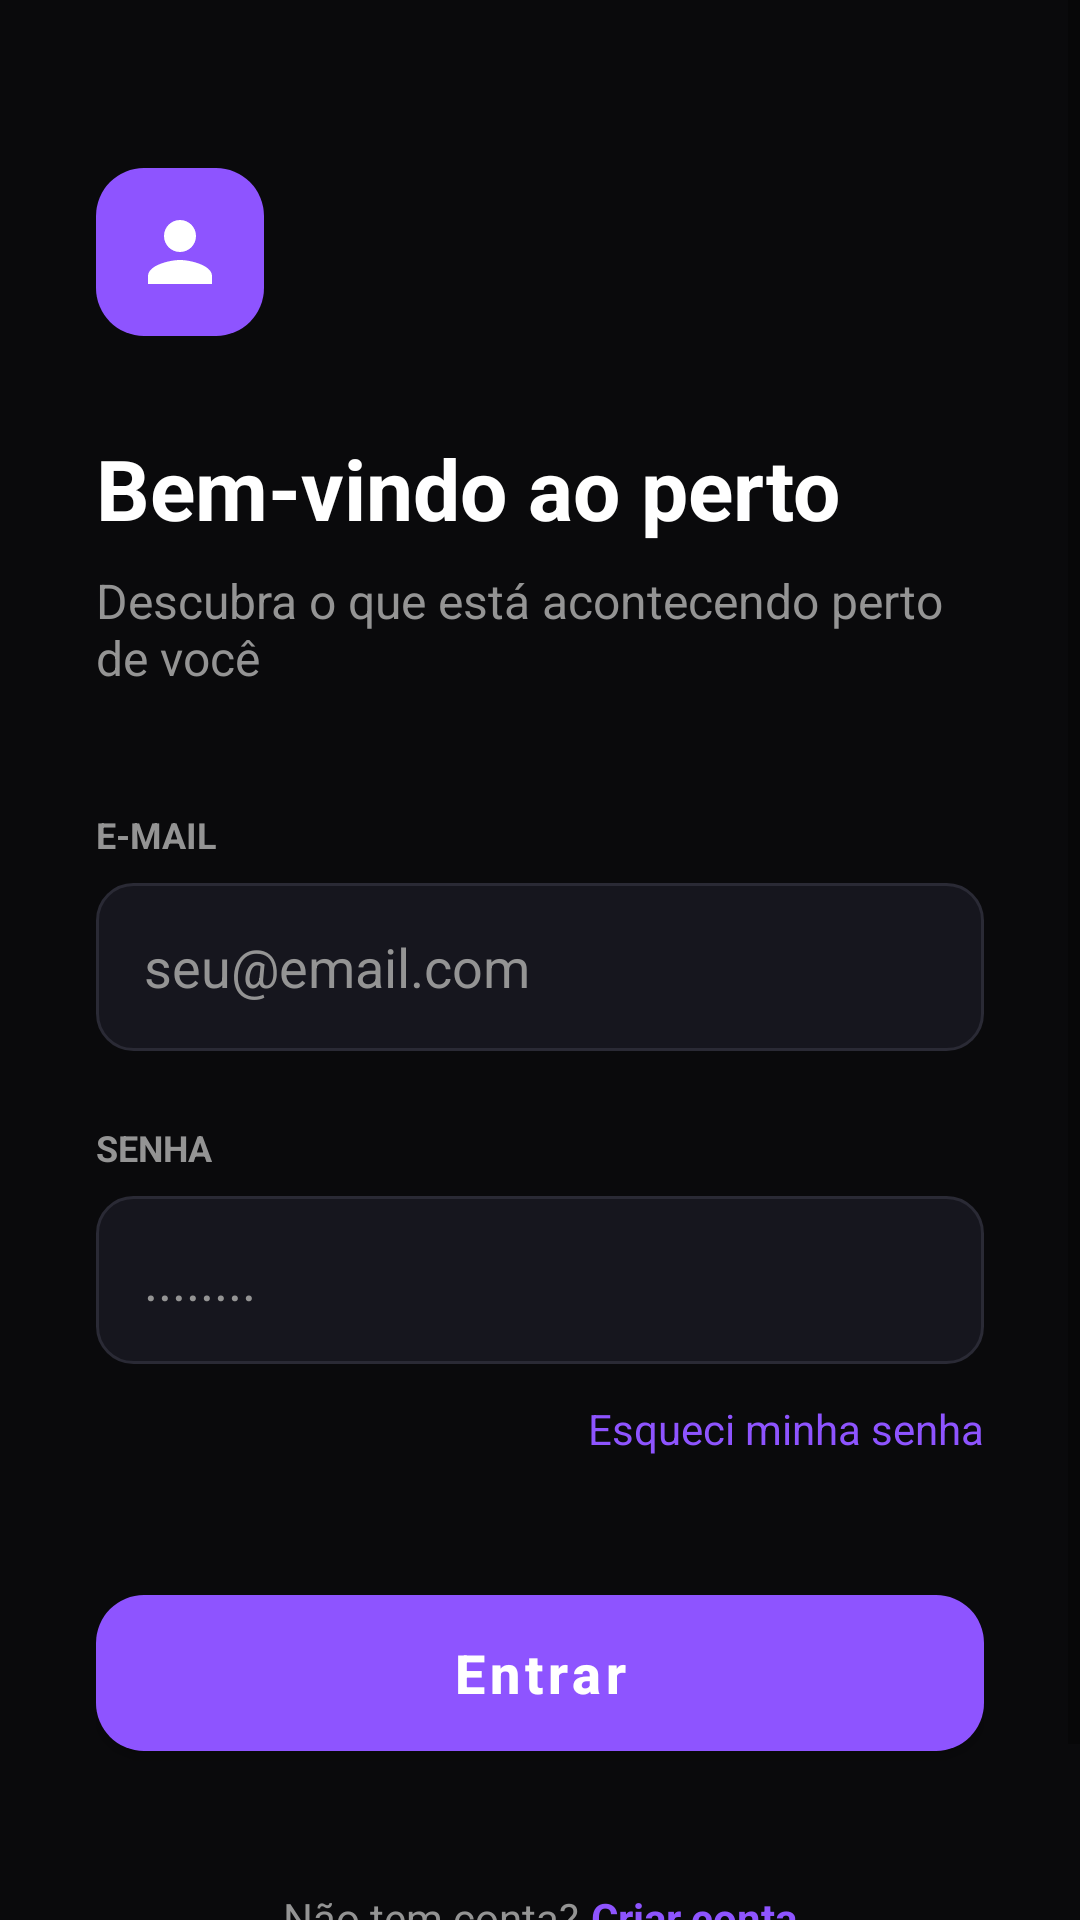

Screen size 1080w x 1920h. Icon name, then its box in pixels as (left=x1, top=y1, right=x2, bottom=y2):
person: (left=96, top=168, right=264, bottom=336)
